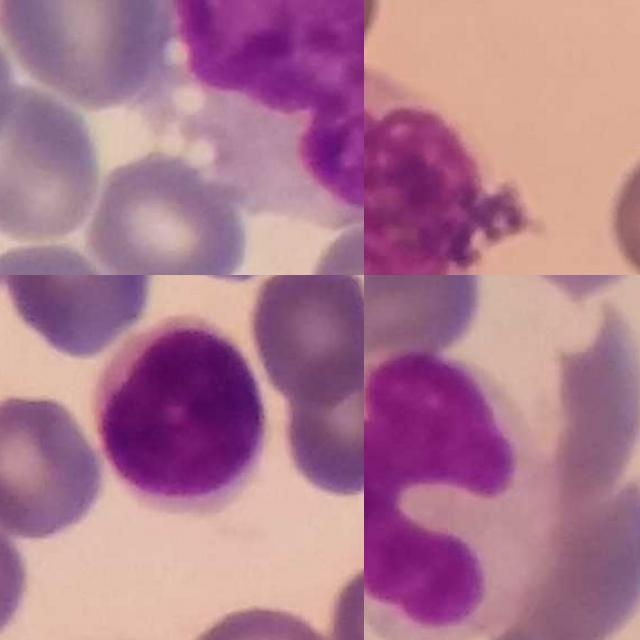Eosinophil: (364, 65, 532, 275)
Lymphocyte: (99, 316, 266, 518)
Monocyte: (364, 348, 557, 640), (163, 0, 364, 226)
